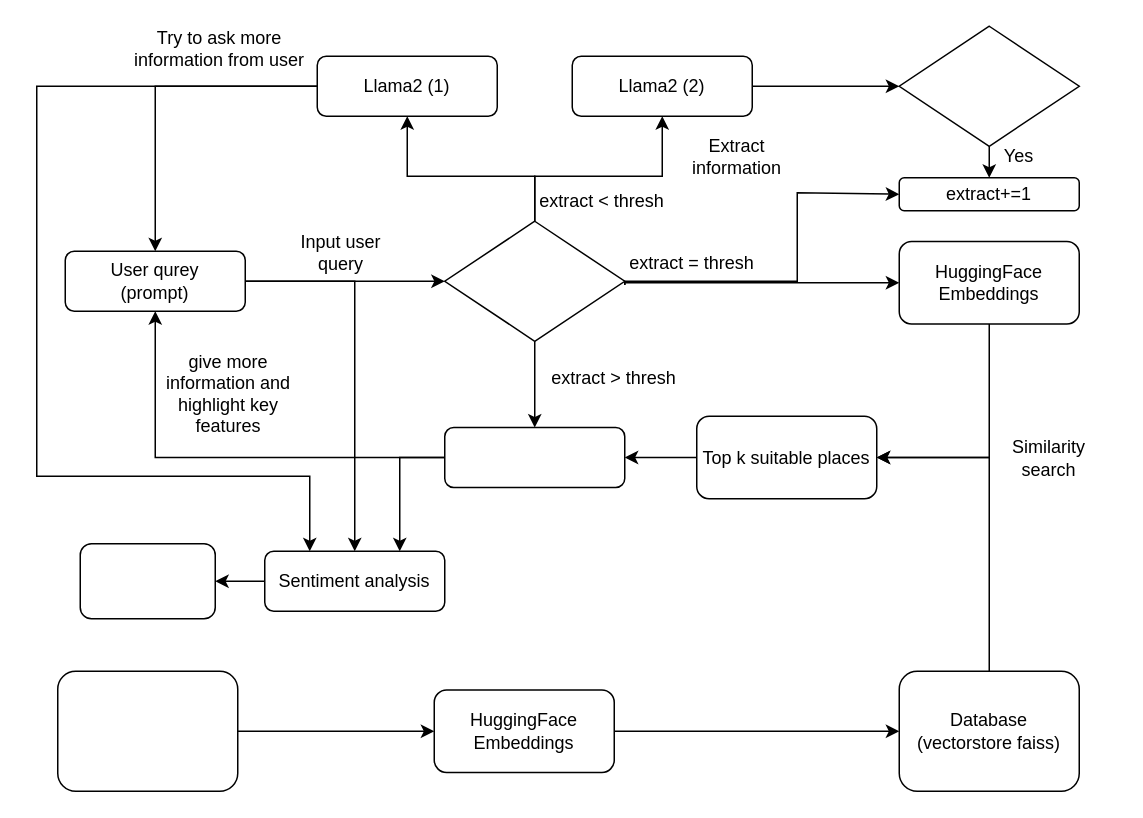
Image size: 1143x818. Some labels were removed from this diagram. Here are the shapes that lost their labels. From the top down, the box of each, then its label:
(898, 25, 1079, 146): Found need information
(443, 426, 625, 488): Llama2 (3)
(79, 542, 215, 619): Save to csv file
(56, 670, 238, 791): Data (*.csv)
